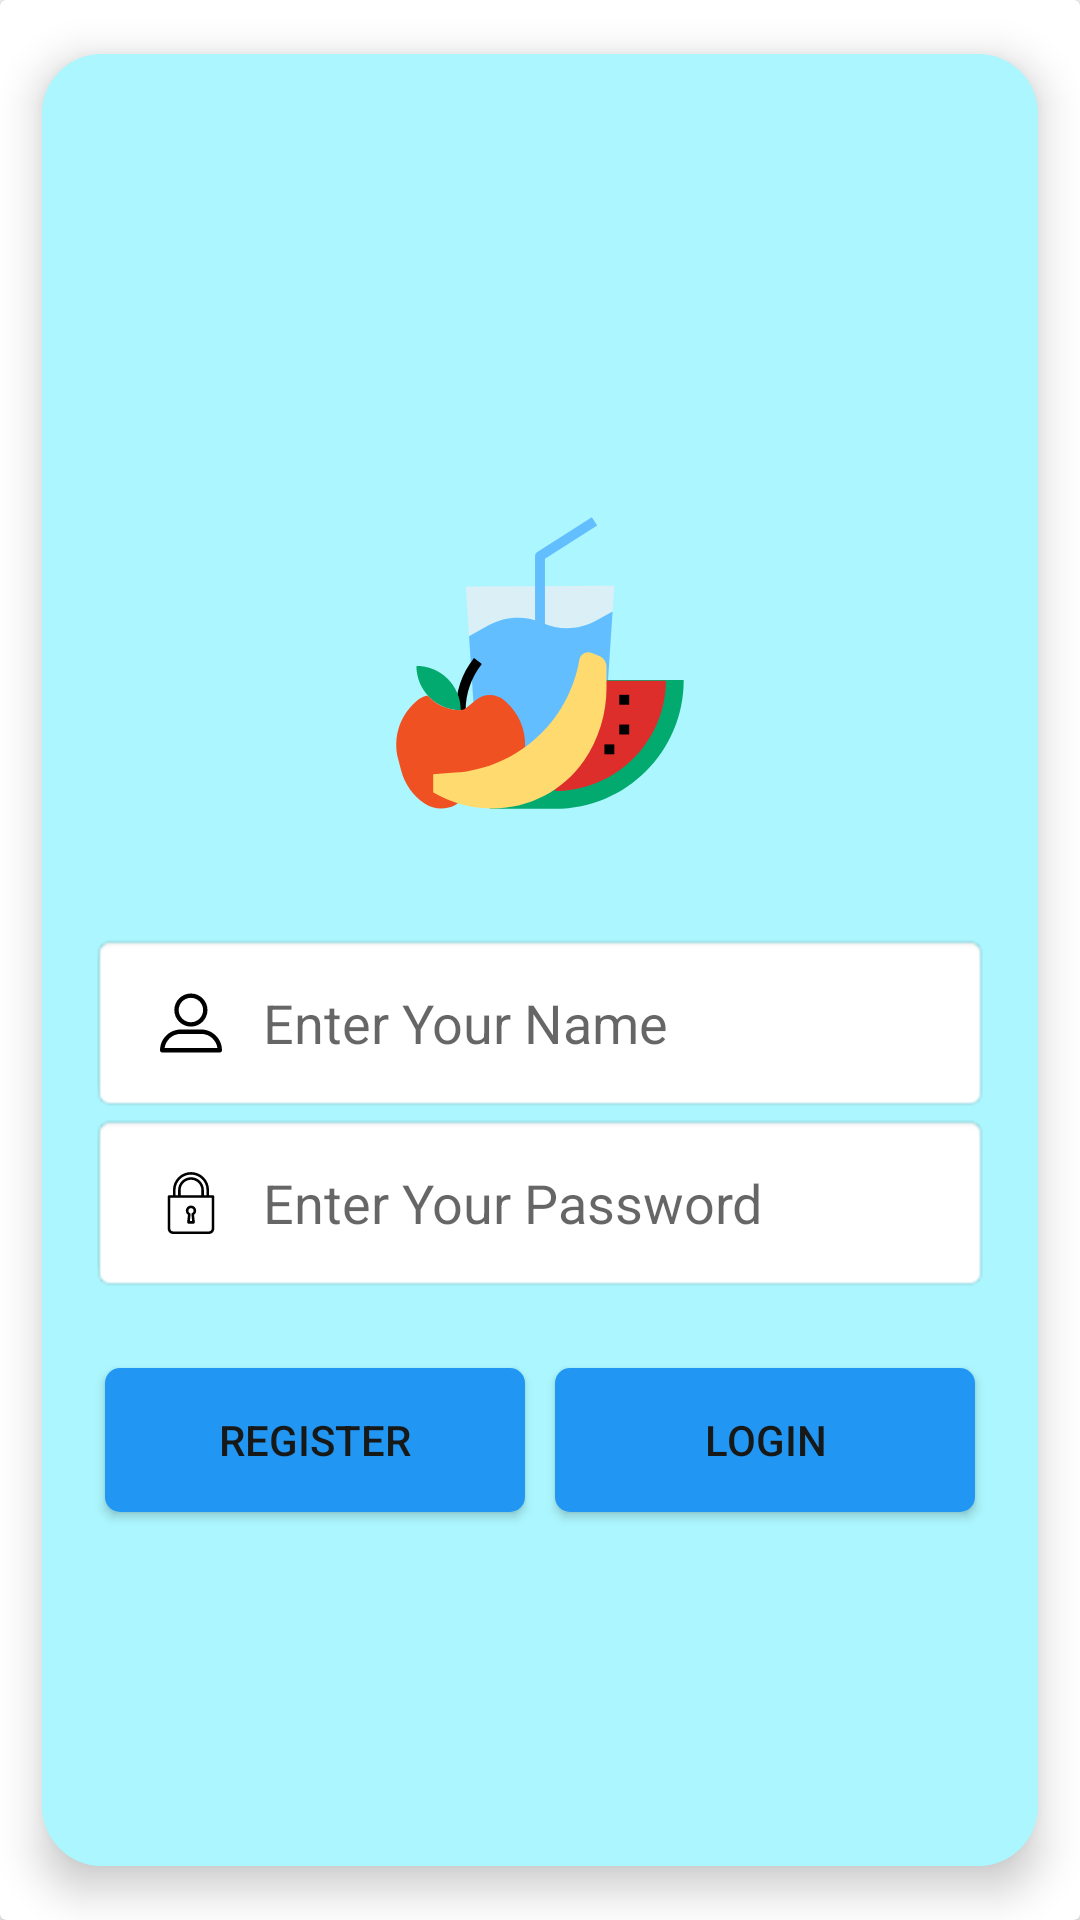

Locate icon controls on the screen. Image size 1080 x 1920, boxes as (x1, y1, x2, y2).
food: (396, 517, 684, 809)
lock: (167, 1172, 215, 1234)
profile: (160, 993, 222, 1053)
